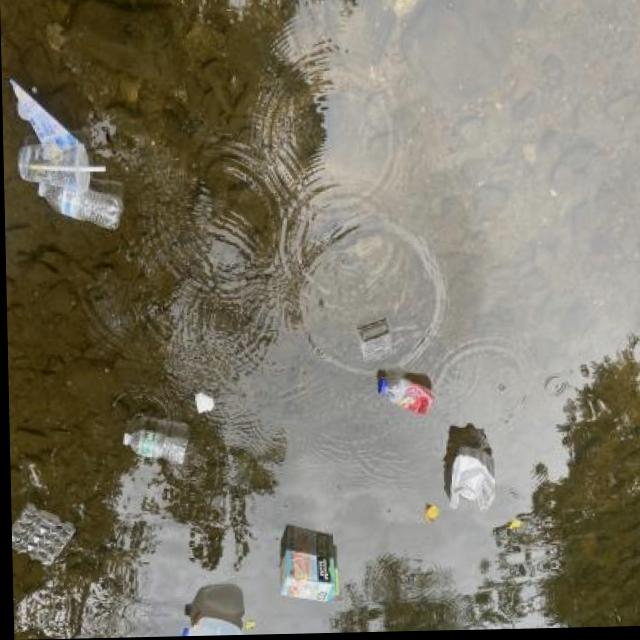Cardboard: (273, 547, 340, 607)
Cup: (15, 143, 107, 192)
Paper: (193, 385, 212, 416)
Plastic: (8, 76, 82, 158), (12, 188, 123, 234), (9, 501, 75, 575), (443, 445, 496, 518), (117, 428, 189, 470), (374, 372, 433, 423), (354, 322, 399, 369), (176, 615, 242, 637)
